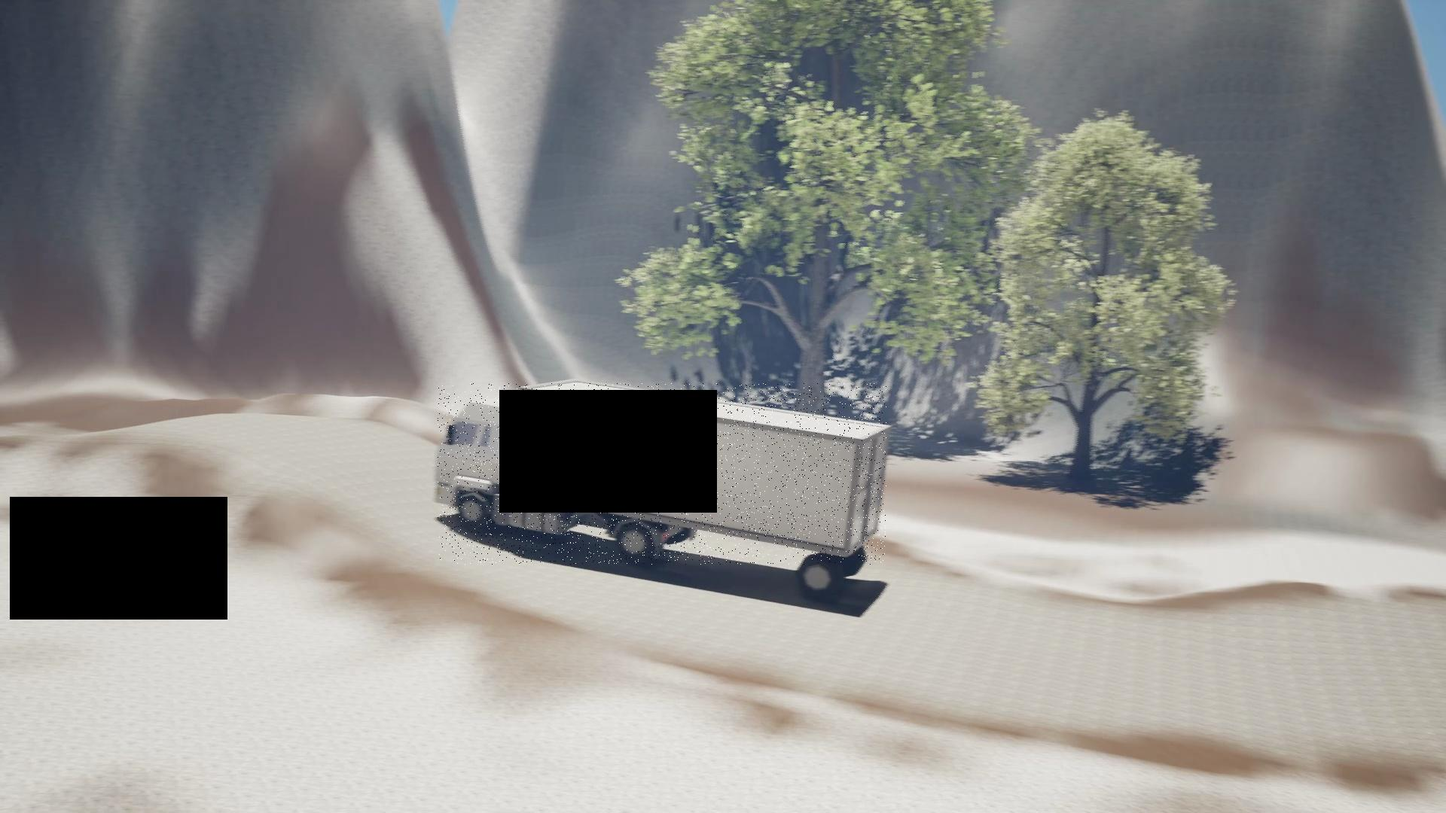truck: (438, 383, 886, 565)
